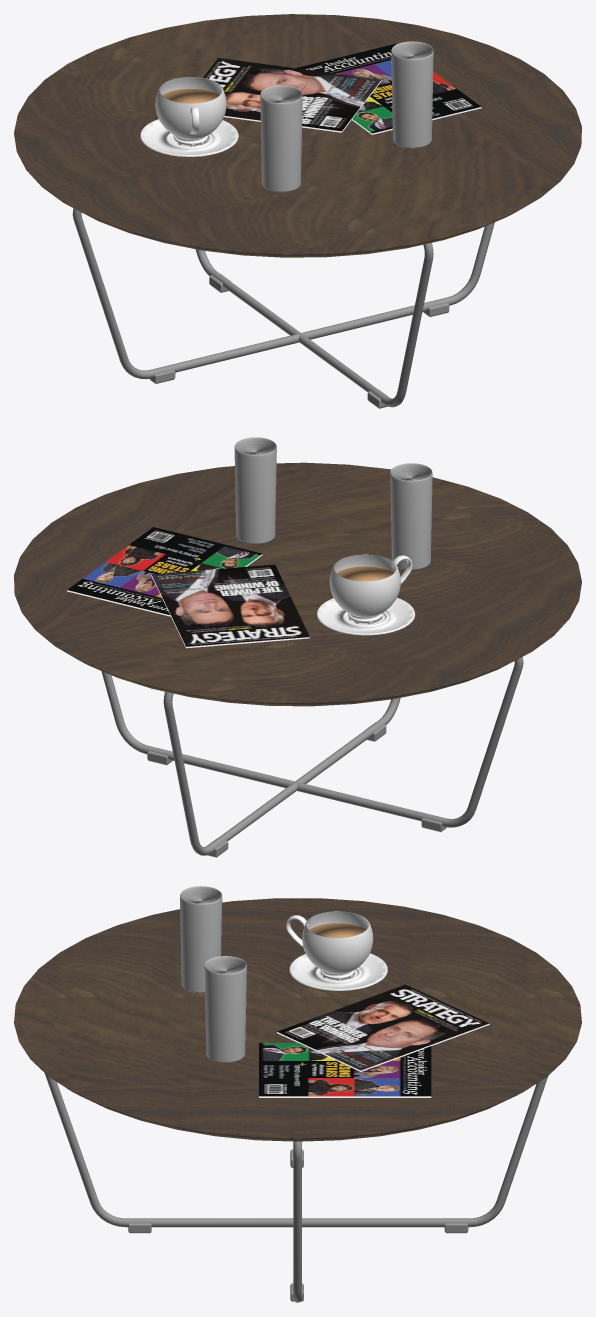
File: coffee table OBJ.obj
The picture shows the model from 3 angles, top to bottom: view 1: azimuth 30°, elevation 25°; view 2: azimuth 150°, elevation 25°; view 3: azimuth 270°, elevation 25°; orthographic projection.
Parts seen in each view (by area): view 1: Cylinder04, Box6469, Rectangle02, Box08, glass18, glass17, Rectangle1256, Cup13, Saucer13, Object17, Coffee13; view 2: Cylinder04, Box6469, Box08, Rectangle02, glass18, glass17, Rectangle1256, Cup13, Saucer13, Object17, Coffee13; view 3: Cylinder04, Box6469, Box08, Rectangle1256, glass18, glass17, Cup13, Saucer13, Rectangle02, Object17, Coffee13.
Boxes of the visible parts, x1=… form: Cylinder04: x1=14, y1=14, x2=581, y2=257; Box6469: x1=203, y1=58, x2=381, y2=132; Rectangle02: x1=72, y1=208, x2=494, y2=379; Box08: x1=296, y1=44, x2=481, y2=134; glass18: x1=391, y1=41, x2=433, y2=148; glass17: x1=260, y1=85, x2=302, y2=192; Rectangle1256: x1=195, y1=243, x2=433, y2=407; Cup13: x1=155, y1=77, x2=226, y2=146; Saucer13: x1=140, y1=119, x2=238, y2=156; Object17: x1=149, y1=273, x2=449, y2=408; Coffee13: x1=162, y1=88, x2=219, y2=103; Cylinder04: x1=14, y1=462, x2=581, y2=706; Box6469: x1=151, y1=564, x2=309, y2=648; Box08: x1=67, y1=527, x2=262, y2=616; Rectangle02: x1=101, y1=657, x2=523, y2=827; glass18: x1=234, y1=437, x2=276, y2=543; glass17: x1=390, y1=463, x2=432, y2=569; Rectangle1256: x1=163, y1=691, x2=400, y2=855; Cup13: x1=329, y1=554, x2=400, y2=624; Saucer13: x1=316, y1=597, x2=415, y2=635; Object17: x1=147, y1=722, x2=446, y2=857; Coffee13: x1=336, y1=566, x2=393, y2=581; Cylinder04: x1=14, y1=898, x2=581, y2=1141; Box6469: x1=277, y1=984, x2=489, y2=1071; Box08: x1=259, y1=1043, x2=431, y2=1097; Rectangle1256: x1=44, y1=1073, x2=548, y2=1227; glass18: x1=204, y1=956, x2=246, y2=1062; glass17: x1=180, y1=886, x2=222, y2=992; Cup13: x1=302, y1=911, x2=373, y2=980; Saucer13: x1=289, y1=953, x2=387, y2=990; Rectangle02: x1=293, y1=1141, x2=301, y2=1302; Object17: x1=128, y1=1149, x2=468, y2=1301; Coffee13: x1=309, y1=923, x2=366, y2=937.
Size of the model in its own units: 831 by 490 by 832.
Materials: 9 (3 with a texture image).
